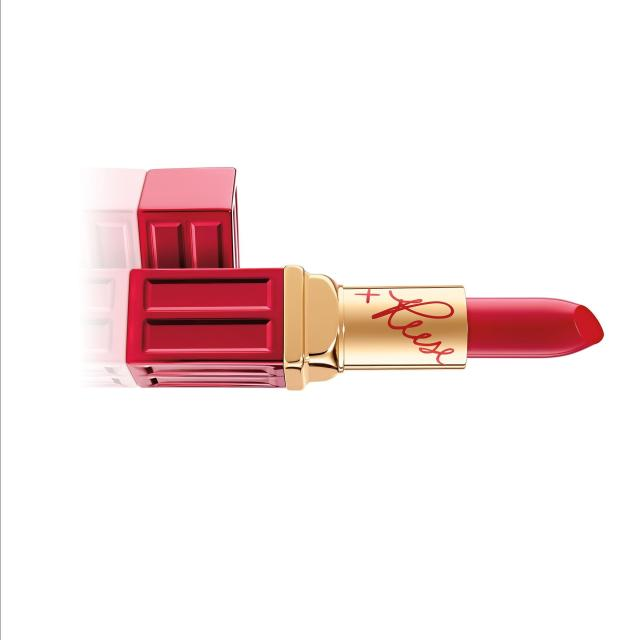lipstick: (92, 160, 607, 416)
